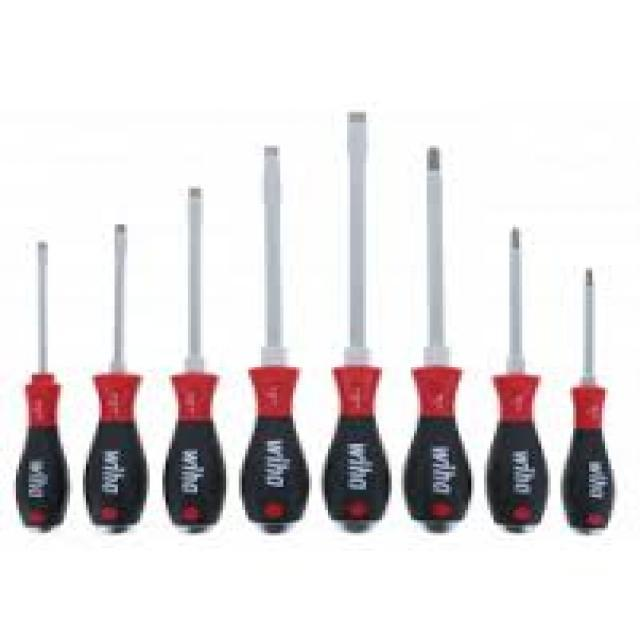screwdriver: (315, 103, 398, 540), (232, 138, 316, 542), (398, 143, 478, 540), (154, 180, 236, 540), (480, 218, 556, 534), (82, 219, 156, 543), (10, 234, 74, 538), (559, 264, 621, 538)
